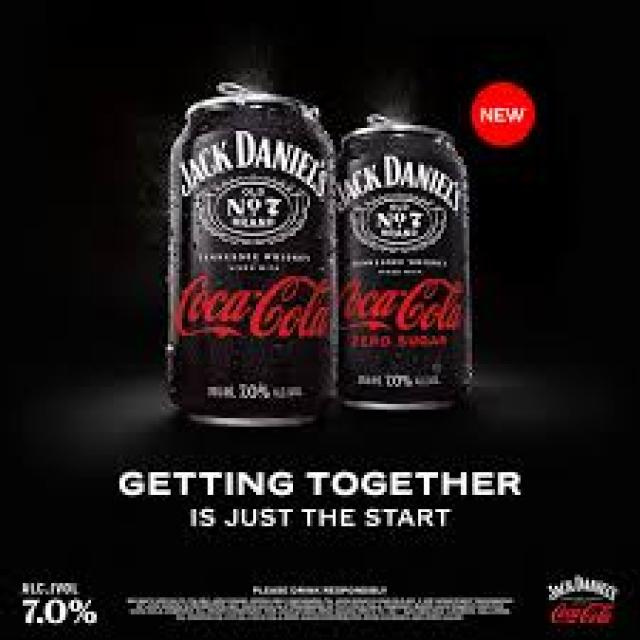Cans: (160, 82, 342, 426), (330, 108, 484, 415)
